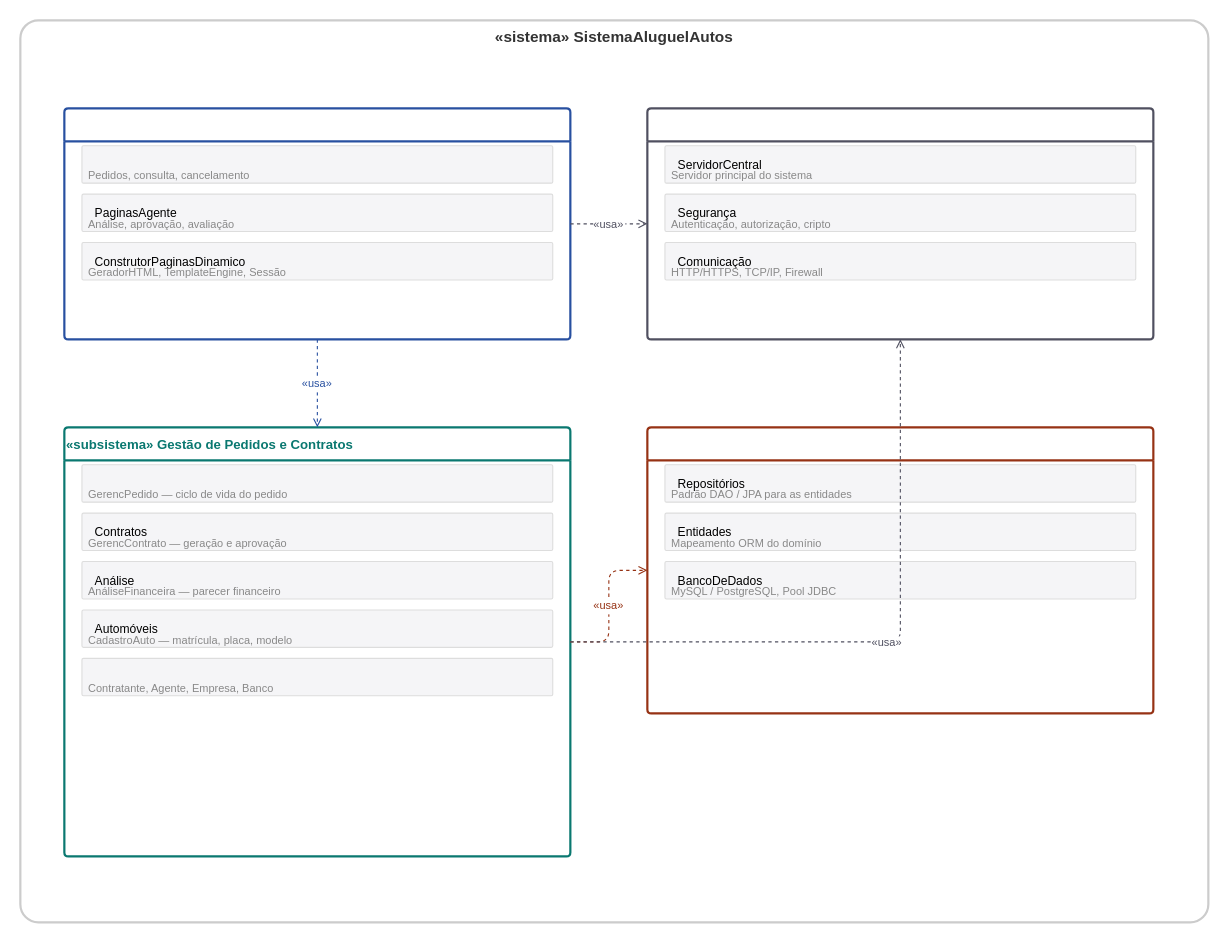
This 1228x942 diagram has some shape labels left out. The shapes that lost their labels are listed below. From the top down, each one's box as (x1, y1, x2, y2) in pixels, then its label:
(81, 145, 553, 183): PaginasCliente
(63, 107, 571, 340): «subsistema» Apresentação (Web)
(646, 107, 1154, 340): «camada» Infraestrutura
(81, 464, 553, 502): Pedidos
(646, 426, 1154, 714): «camada» Persistência
(81, 657, 553, 696): Usuários e Autenticação
